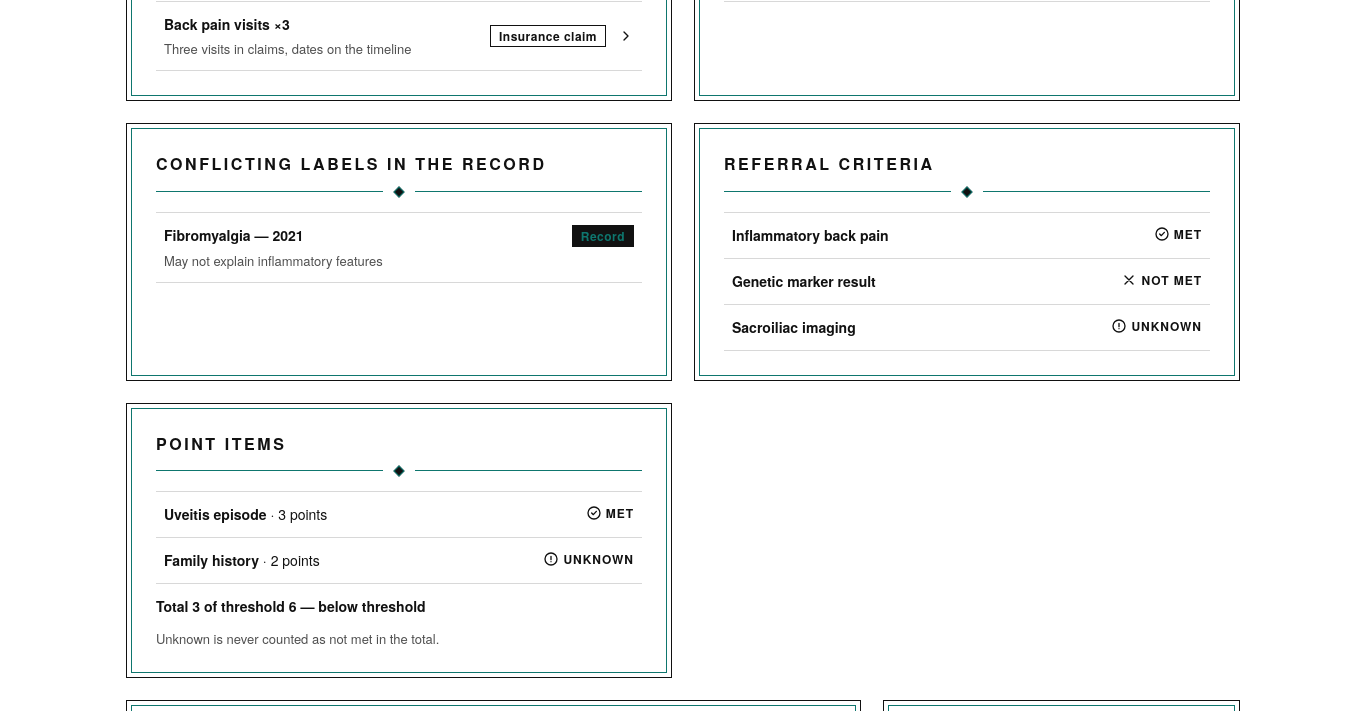
Test case: CaseSummary criteria panel › [AC-032] opening an unknown item reveals the 'needed' text
The image size is (1366, 711).
(page scrolled)
Click the button "Sacroiliac imaging Unknown" at (794, 327), box [724,305,1210,350]
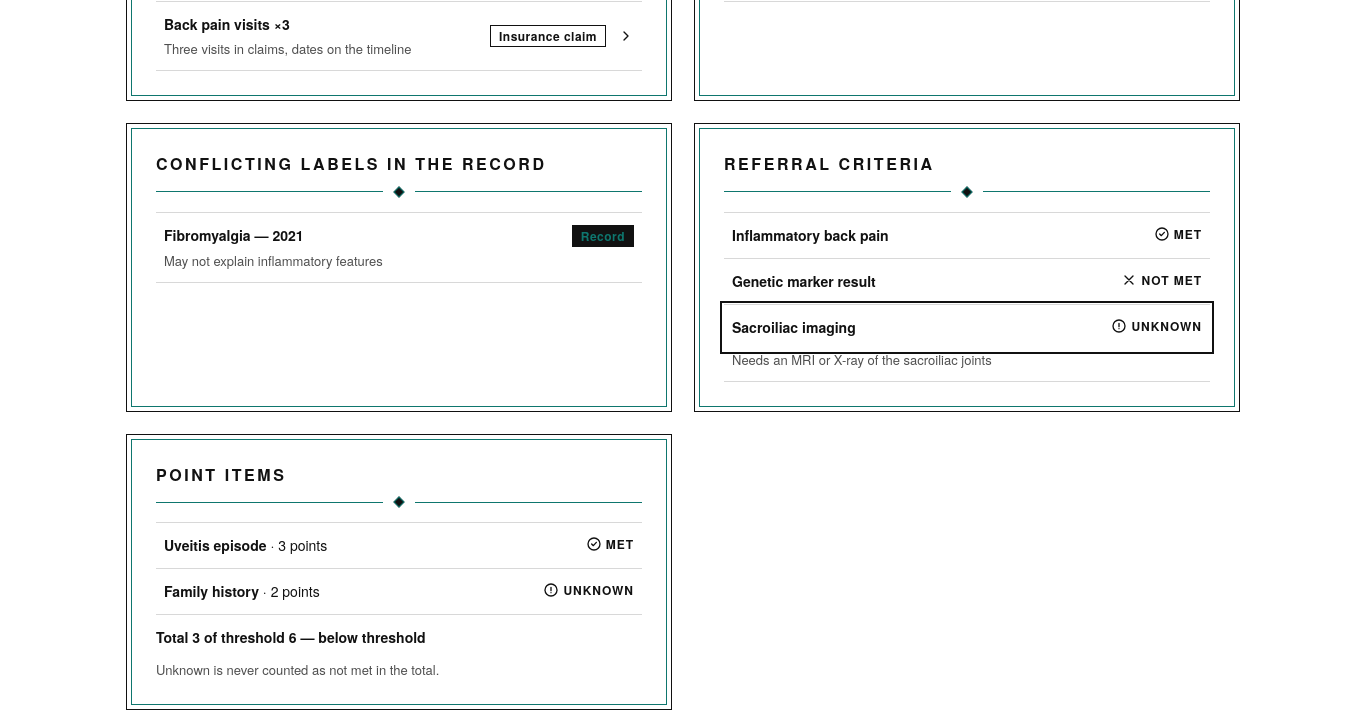
expect the text "Needs an MRI or X-ray of the sacroiliac joints" is shown: met, box [732,350,992,369]
